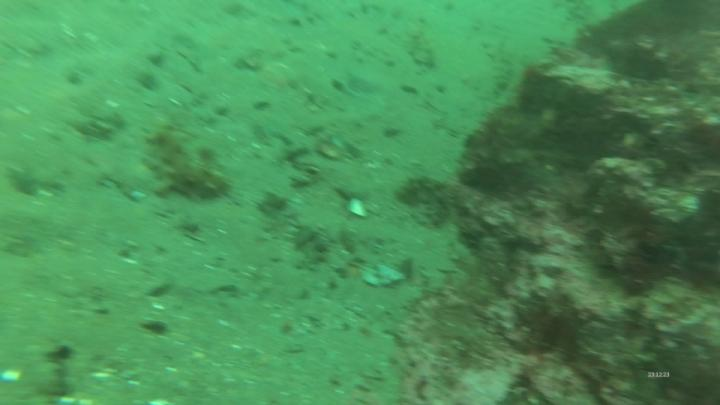holothurian: (146, 124, 230, 203), (401, 173, 453, 229)
